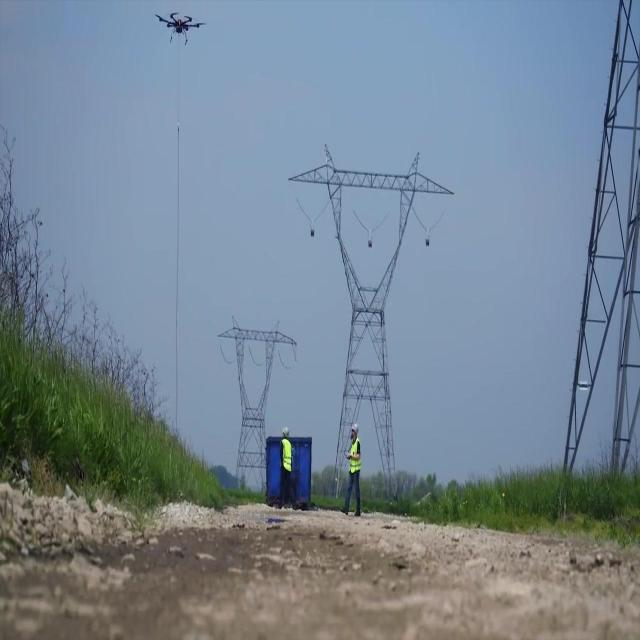drone: (153, 8, 209, 50)
